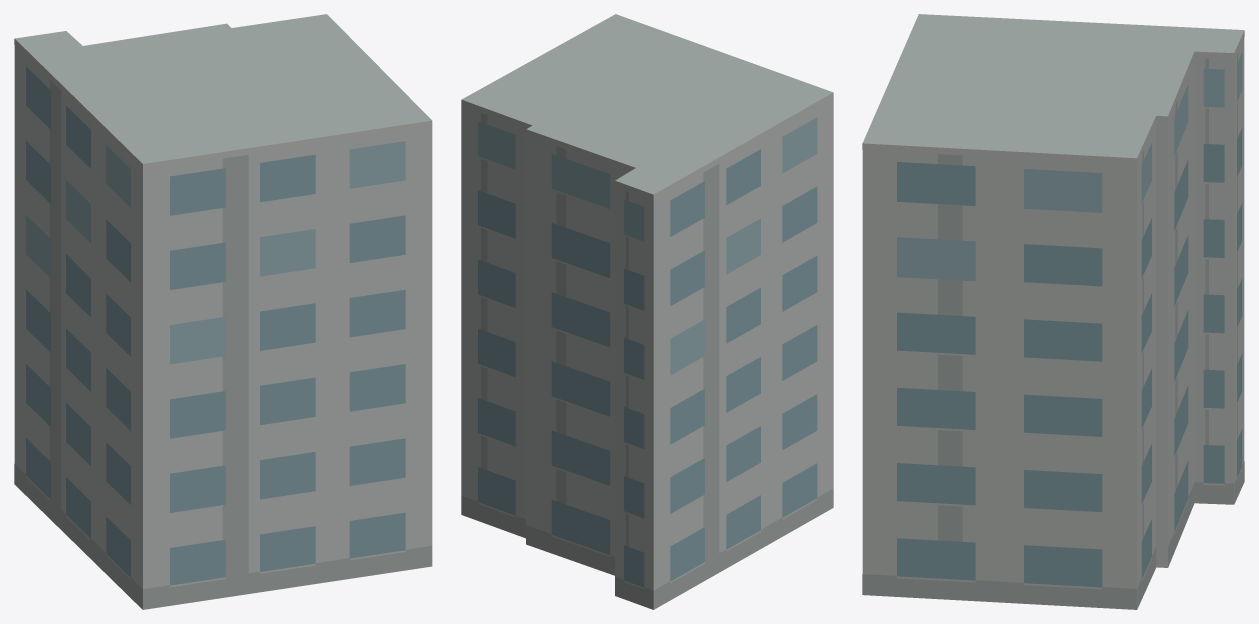
File: survey-upis-32745209.glb
3 views of the same model, side by side, from view 1: azimuth 30°, elevation 25°; view 2: azimuth 150°, elevation 25°; view 3: azimuth 270°, elevation 25° (orthographic). The views are drawn at different scales.
Visible parts, largest first — view 1: survey-upis-32745209.tmp; view 2: survey-upis-32745209.tmp; view 3: survey-upis-32745209.tmp.
Part boxes in pixels (x1,y1,x2,y2): survey-upis-32745209.tmp: [14, 14, 432, 609]; survey-upis-32745209.tmp: [461, 14, 833, 609]; survey-upis-32745209.tmp: [862, 14, 1244, 609].
Size of the model in its own units: 11.31 by 16.5 by 12.66.
